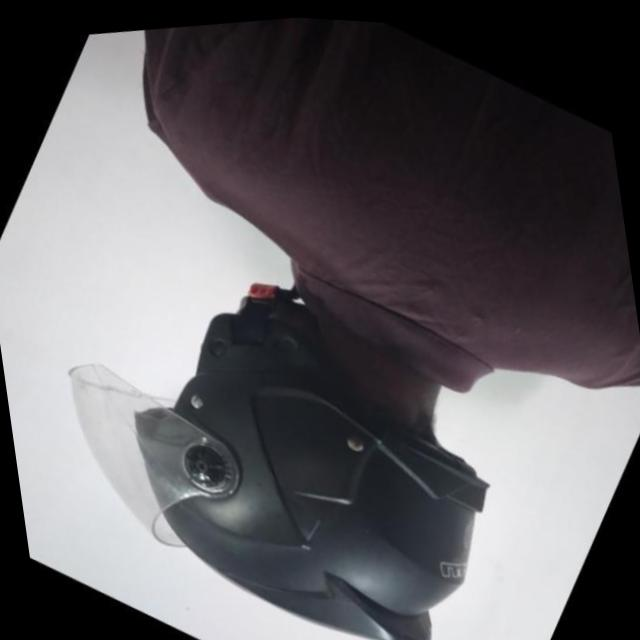WITH_HELMET: (0, 169, 567, 640)
